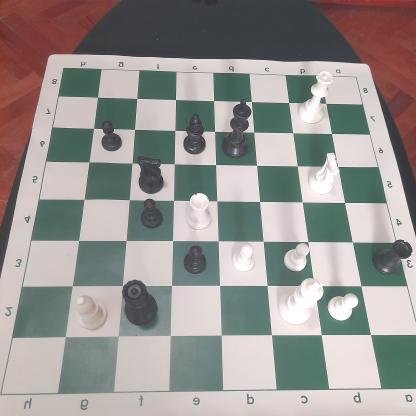black-bishop: (180, 111, 208, 156)
black-king: (217, 97, 254, 160)
black-knight: (135, 152, 166, 195)
black-pawn: (138, 196, 165, 232), (182, 244, 210, 277), (100, 117, 122, 152)
black-queen: (120, 278, 161, 328)
black-rook: (370, 237, 414, 275)
white-bishop: (71, 290, 110, 336)
white-king: (276, 276, 325, 327)
white-knight: (306, 150, 341, 196)
white-pawn: (326, 288, 362, 324), (281, 240, 311, 274), (228, 241, 257, 274)
white-queen: (295, 68, 337, 126)
white-rook: (181, 188, 214, 231)
